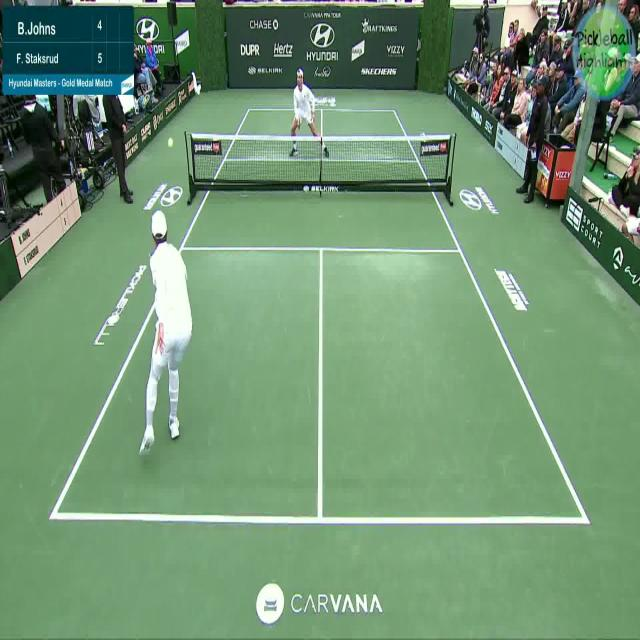Court: (50, 108, 589, 525)
ball: (168, 131, 177, 153)
